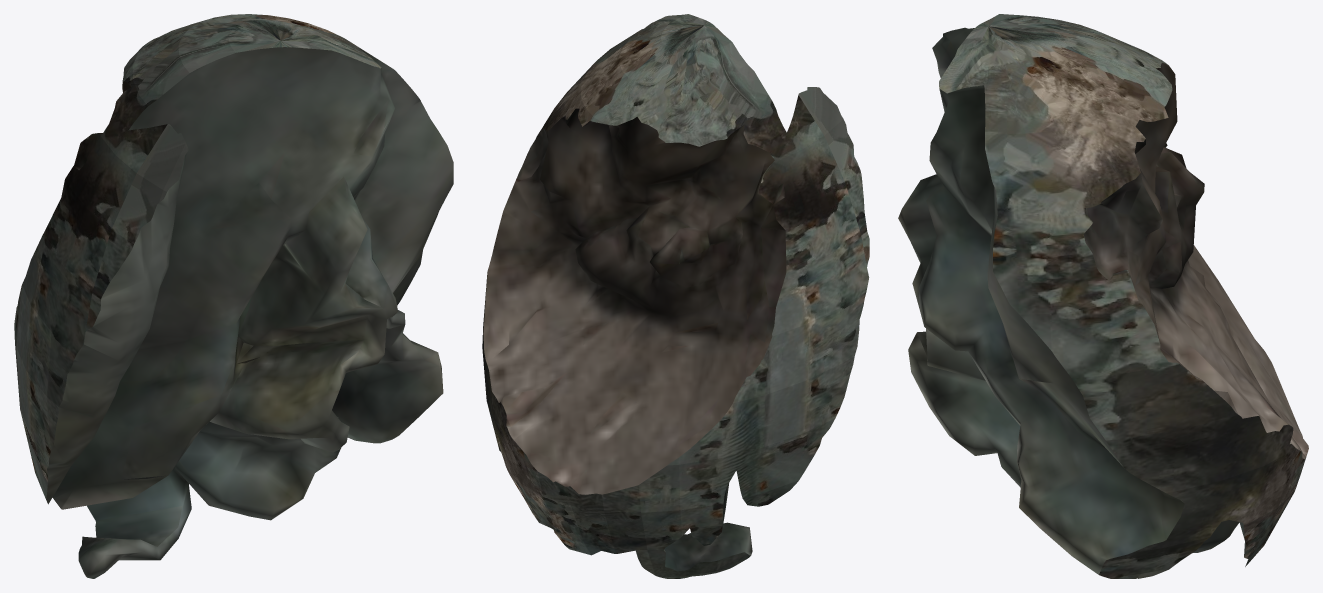
File: christoph_willibald_ritter_von_gluck_1.glb
3 renders of one model, left to right at view 1: azimuth 30°, elevation 25°; view 2: azimuth 150°, elevation 25°; view 3: azimuth 270°, elevation 25°, orthographic. The views are drawn at different scales.
Parts seen in each view (by area): view 1: Mesh_0.008; view 2: Mesh_0.008; view 3: Mesh_0.008.
Boxes of the visible parts, x1=… form: Mesh_0.008: x1=14, y1=14, x2=453, y2=578; Mesh_0.008: x1=482, y1=14, x2=869, y2=578; Mesh_0.008: x1=898, y1=14, x2=1308, y2=578.
Size of the model in its own units: 0.1403 by 0.1951 by 0.1301.
Materials: 1 (1 with a texture image).
